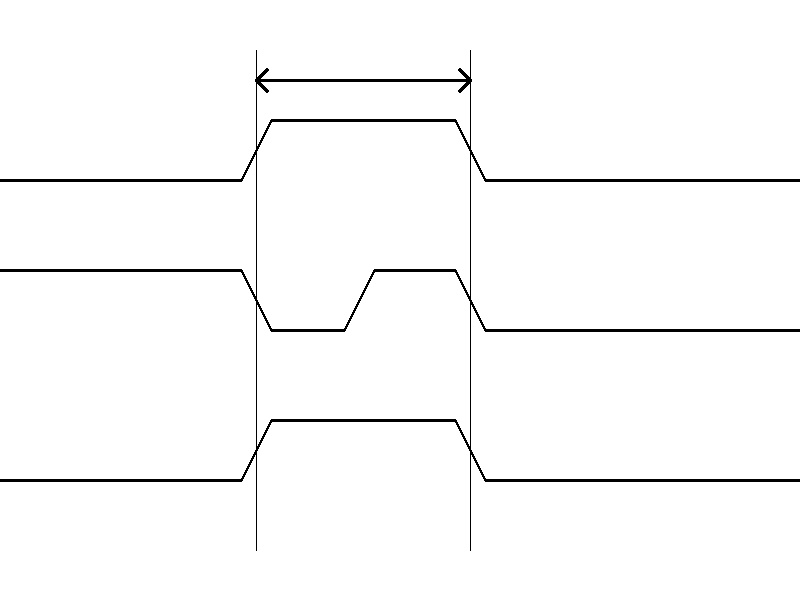double_arrow: (256, 65, 470, 95)
